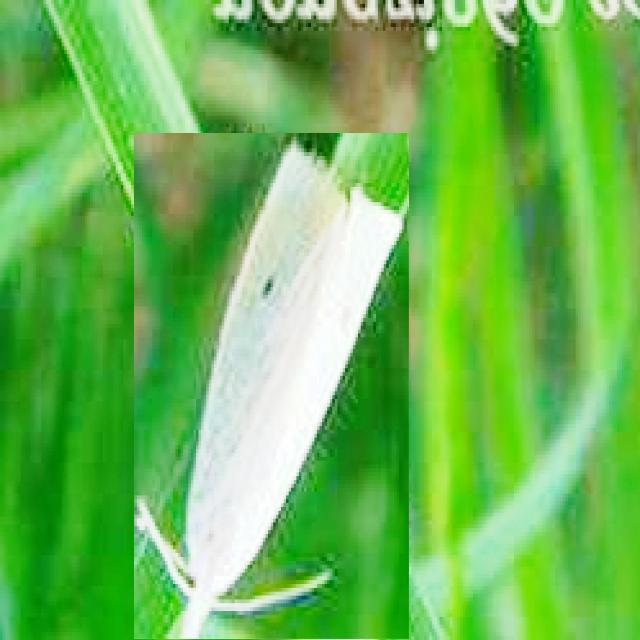stem-borer: (135, 133, 408, 638)
